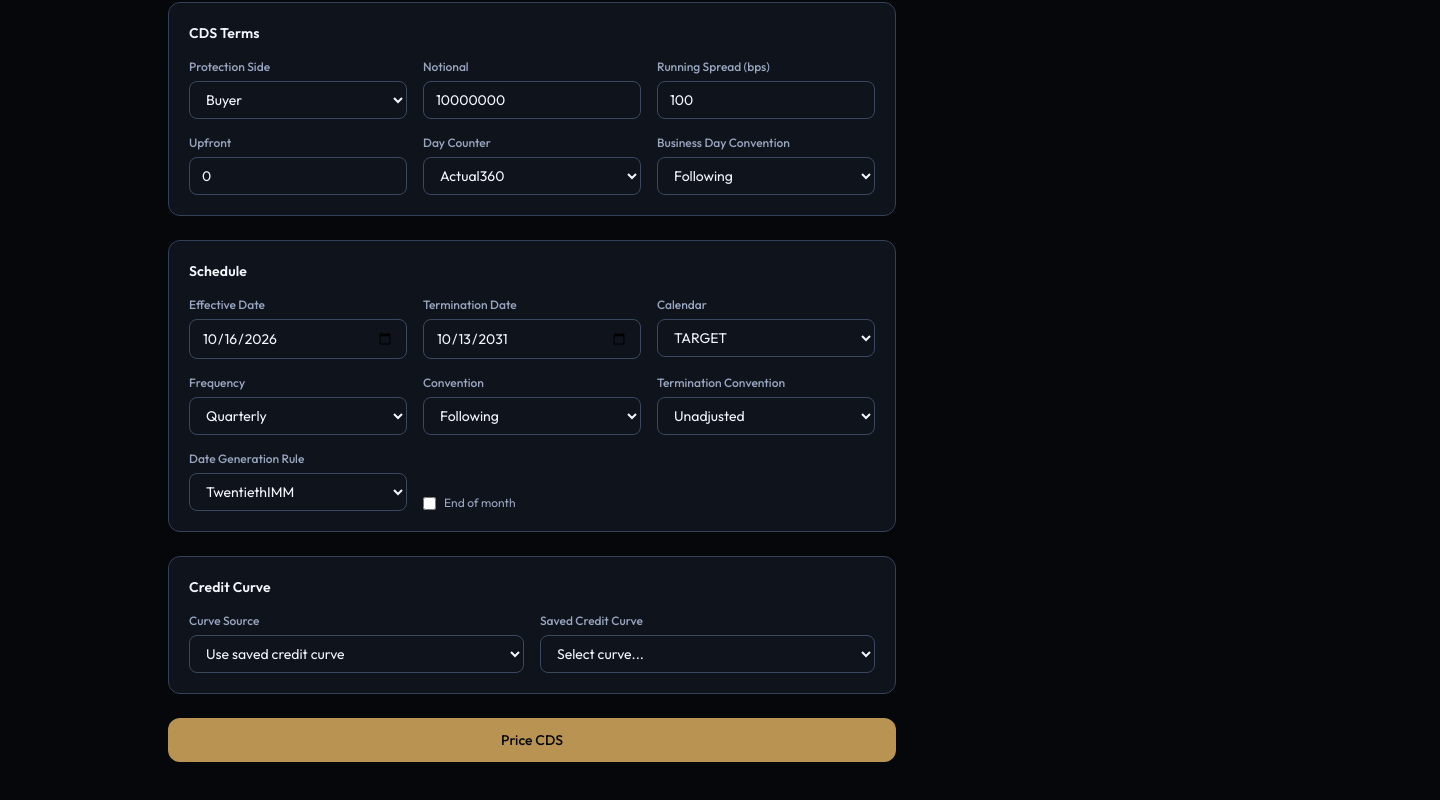
Test: Cds component — direct backend cutover › C2: cds_credit_curve_resolution_failed 422 — error card; no Pricing Results
(page scrolled)
Select "Inline override in this trade" in the dropdown showing "Use saved credit curve" below "Curve Source": coordinates (356, 654) [189,635,524,673]
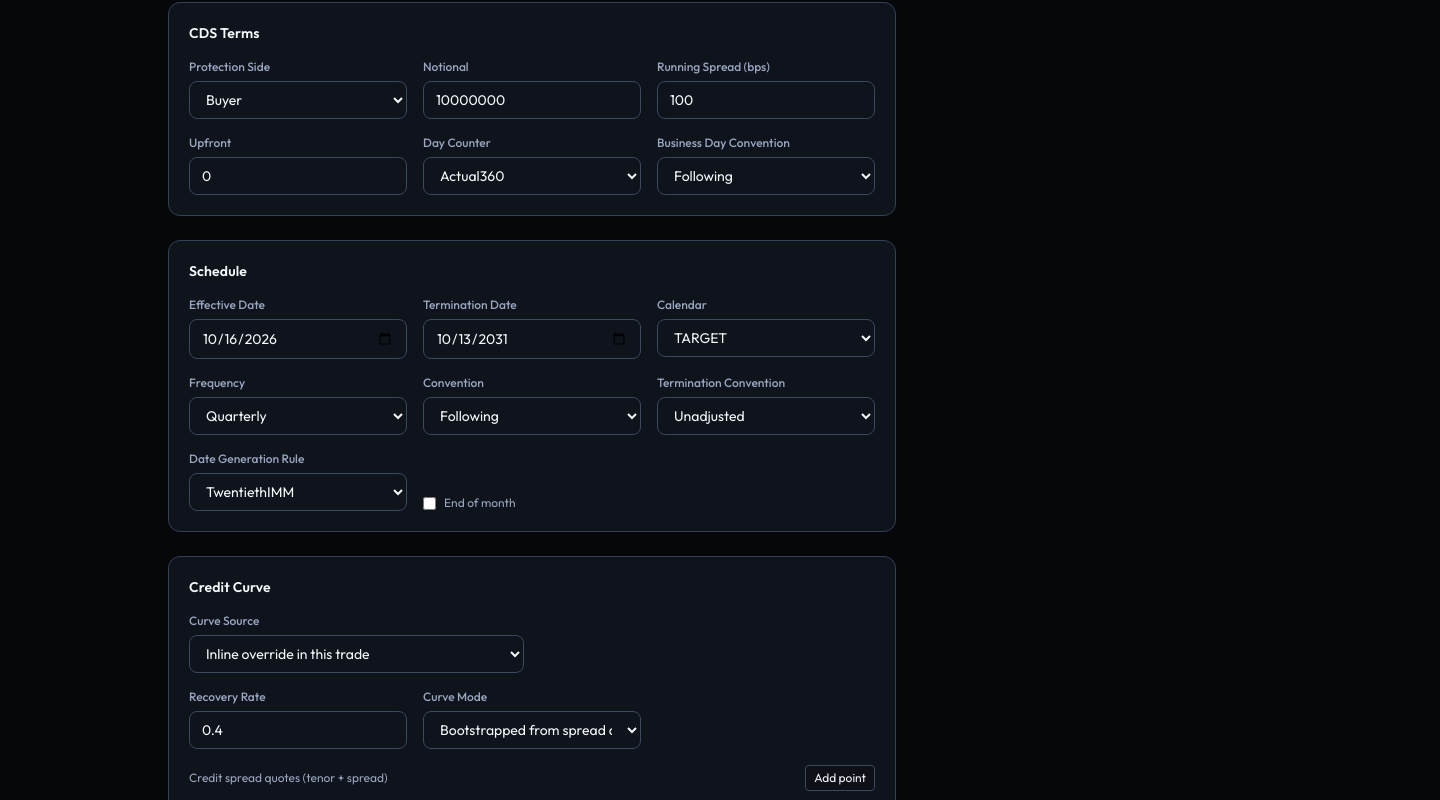
Select "Flat hazard rate" in the dropdown showing "Bootstrapped from spread quotes" below "Curve Mode": coordinates (532, 730) [423,711,641,749]
(page scrolled)
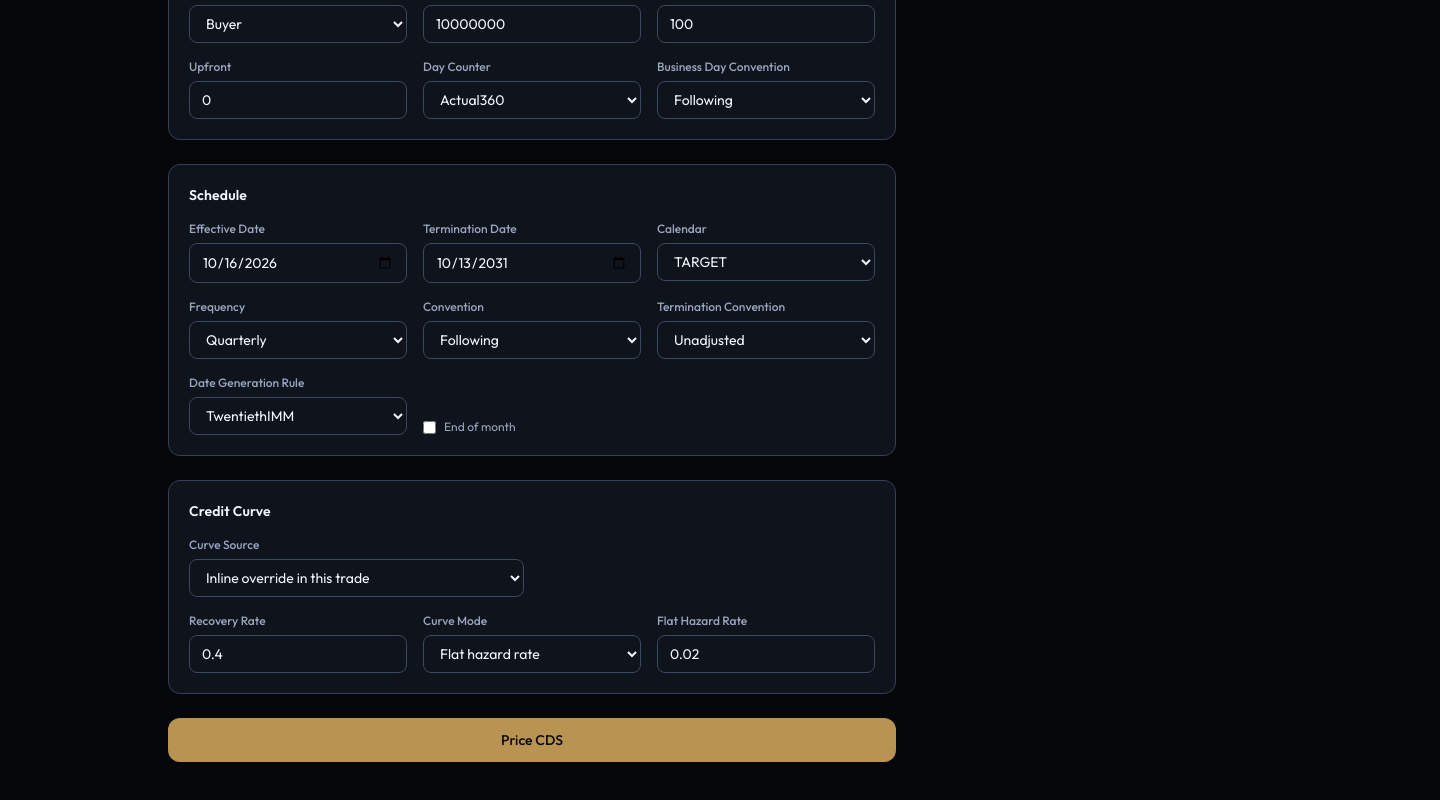
Click the button "Price CDS": coordinates (532, 740) [168,718,896,762]
(page scrolled)
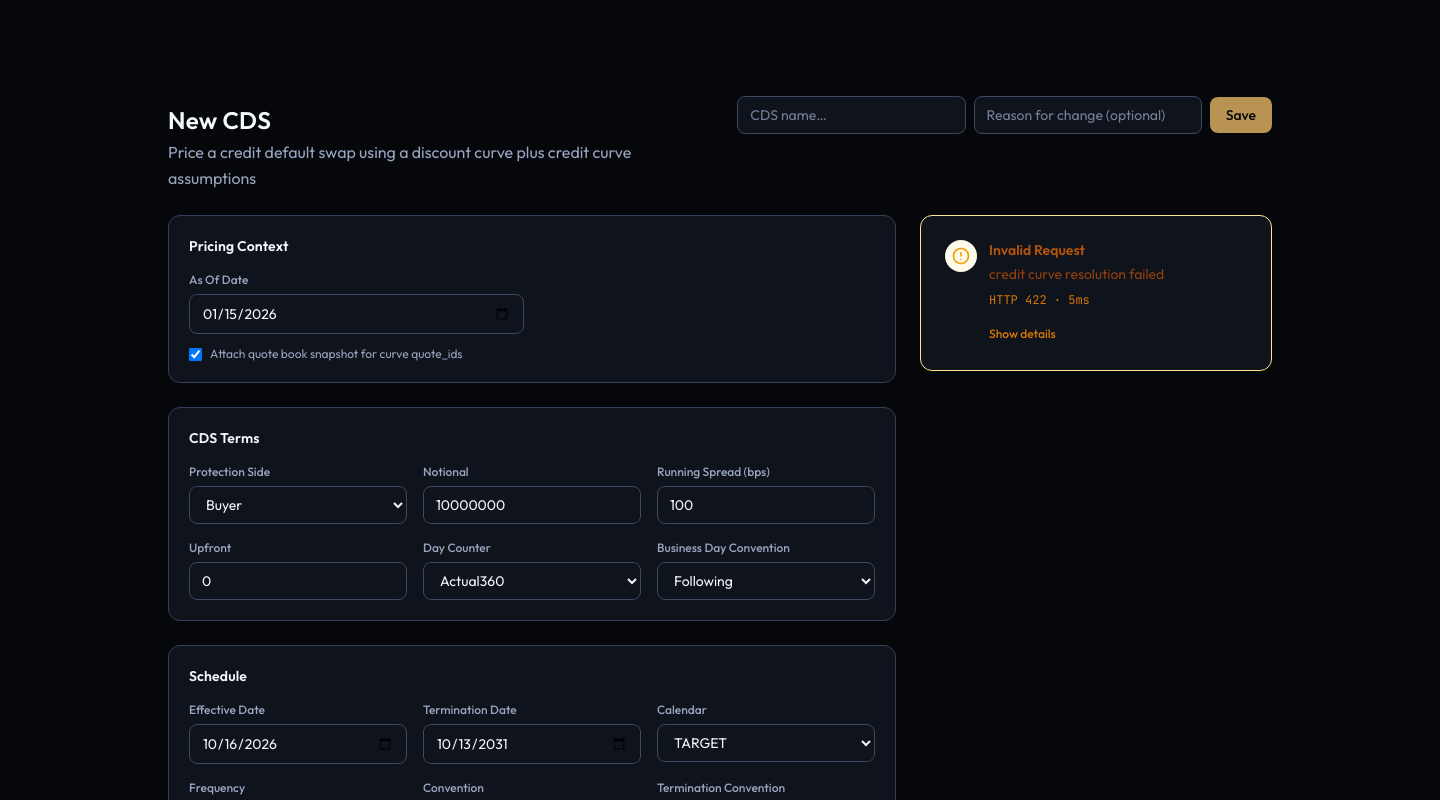
Expected: the text "Invalid Request" is shown, [989,241,1085,259]
